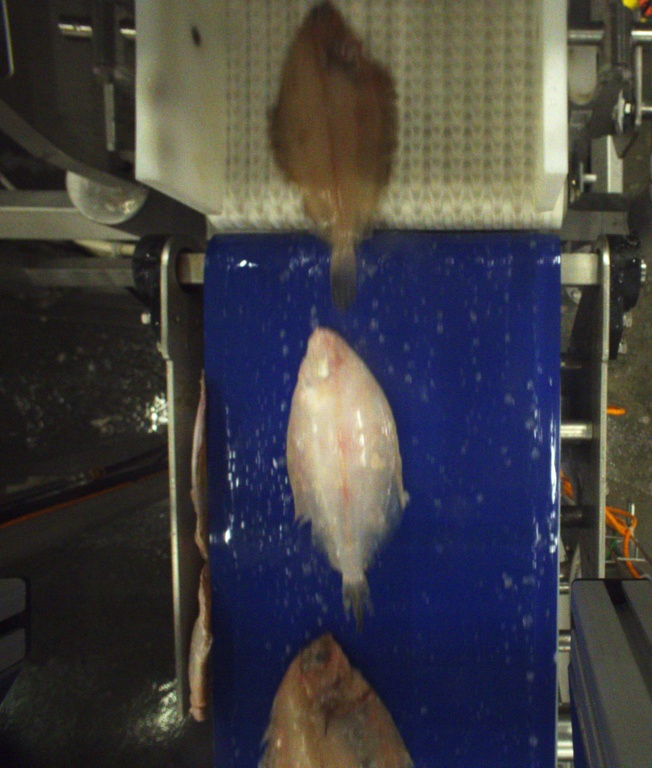WIT: (284, 327, 404, 620)
